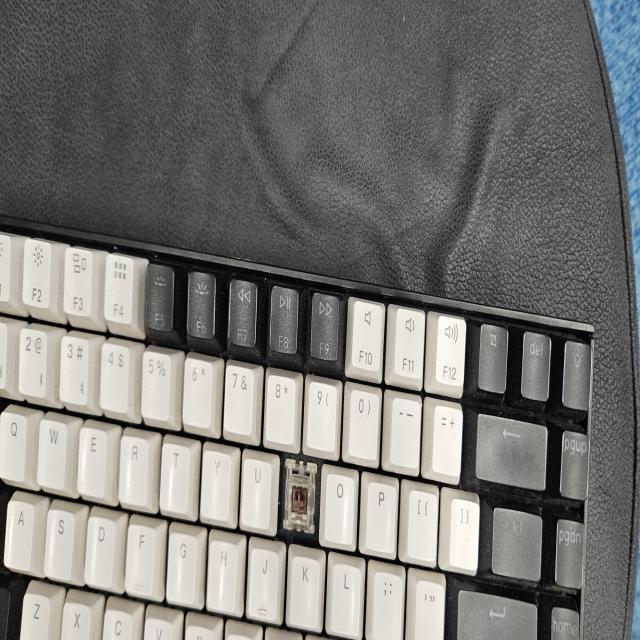C: (285, 464, 311, 528)
